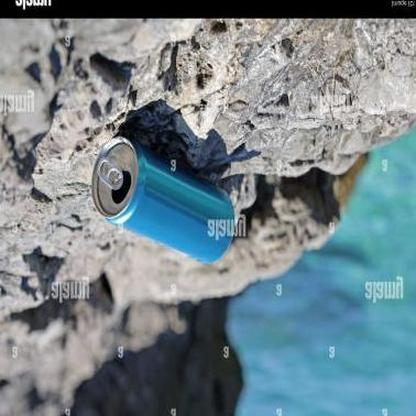can: (90, 136, 236, 266)
